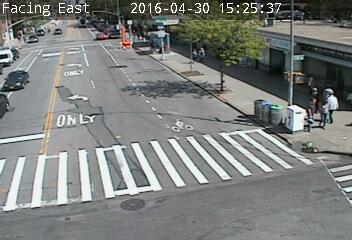neg: (15, 156, 45, 195), (28, 35, 57, 73), (122, 93, 147, 127), (226, 159, 251, 192), (23, 87, 48, 120), (276, 182, 299, 213), (130, 148, 153, 178), (62, 140, 84, 170), (253, 96, 275, 125), (85, 67, 104, 93), (169, 115, 187, 139), (116, 48, 134, 71), (196, 155, 213, 178), (217, 72, 231, 91), (64, 26, 77, 44)
pos: (321, 89, 341, 115), (300, 106, 319, 131), (318, 102, 331, 121), (197, 46, 208, 60), (189, 50, 198, 62)
